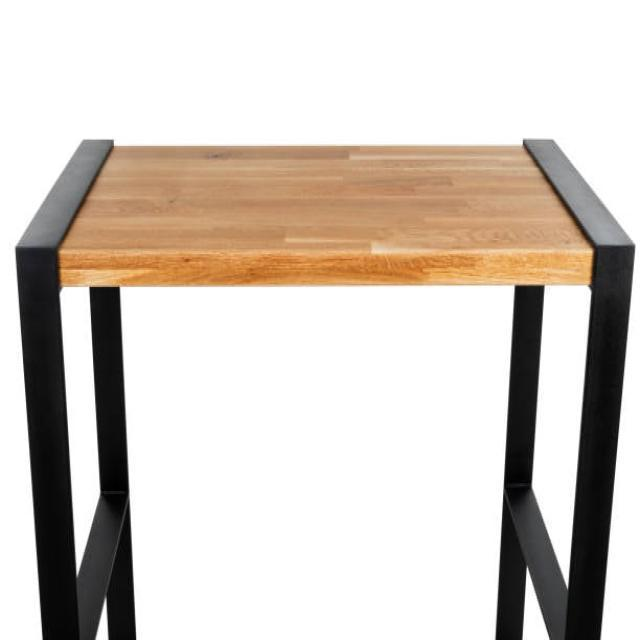table: (14, 136, 636, 638)
